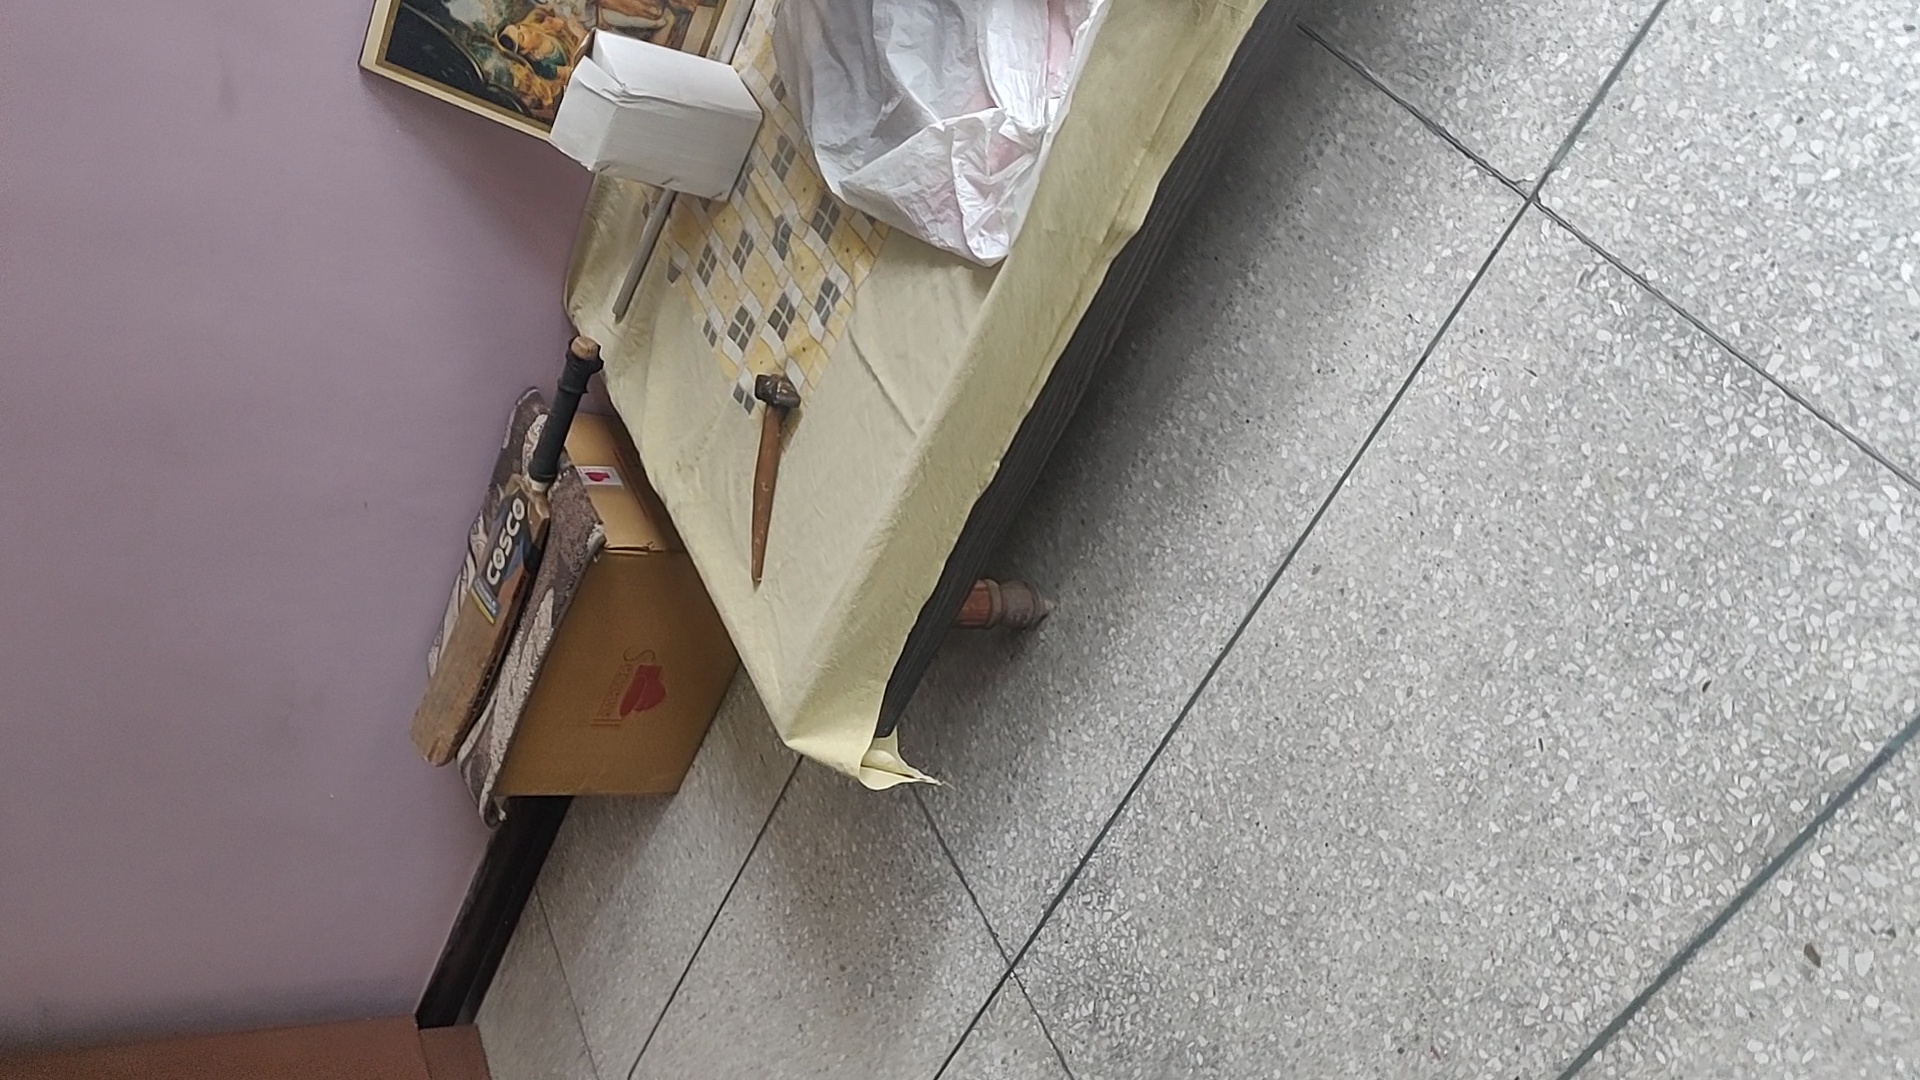hammer: (744, 371, 800, 587)
